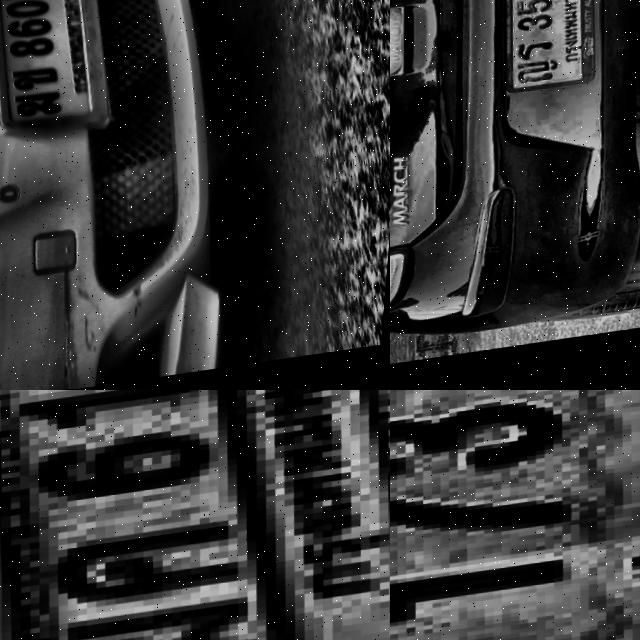license-plate: (0, 390, 390, 640), (390, 390, 640, 640), (0, 0, 119, 144), (493, 0, 613, 101)
